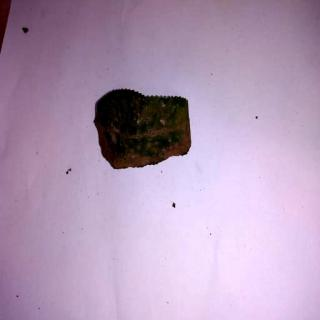Anthracnose: (94, 89, 197, 177)
